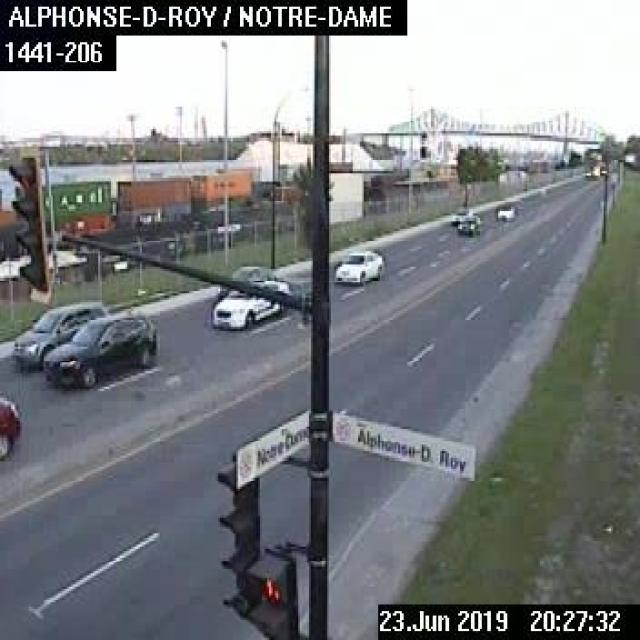vehicle: (40, 309, 156, 389), (9, 296, 110, 374), (209, 278, 291, 329), (213, 261, 276, 300), (333, 247, 382, 284), (0, 396, 20, 460), (456, 211, 480, 236), (448, 205, 471, 225), (493, 200, 516, 220)
